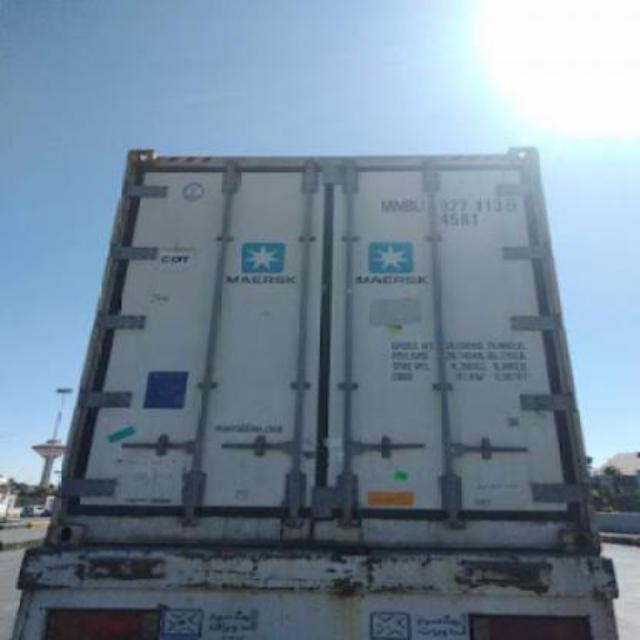0: (438, 198, 450, 214)
1: (472, 200, 484, 212), (482, 200, 494, 212)
2: (450, 198, 460, 214)
3: (494, 198, 506, 214)
5: (506, 198, 520, 212)
7: (458, 198, 470, 212)
B: (404, 200, 414, 212)
M: (378, 200, 394, 212)
N: (392, 200, 406, 214)
U: (412, 198, 424, 214)
